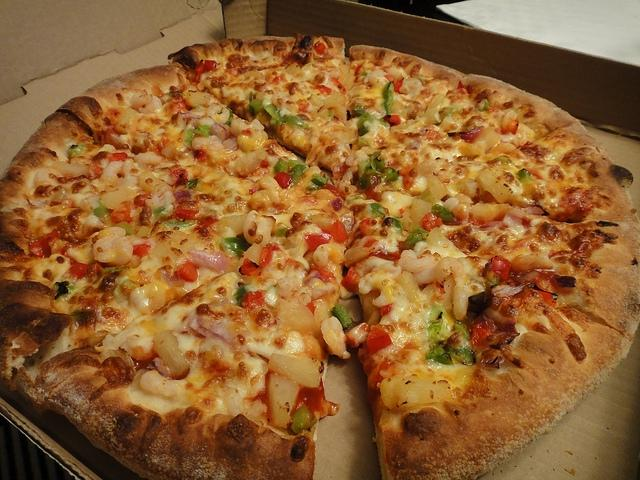pineapple: (378, 373, 457, 411), (267, 353, 325, 388), (152, 330, 190, 380), (268, 373, 300, 430), (275, 298, 317, 340), (476, 167, 522, 203), (321, 316, 351, 360), (424, 225, 461, 252), (235, 148, 268, 176), (137, 170, 172, 196), (102, 187, 138, 210), (396, 270, 420, 302), (410, 198, 432, 231), (472, 126, 502, 150), (218, 214, 248, 237), (425, 93, 445, 124), (427, 174, 450, 200), (455, 179, 484, 198), (192, 136, 224, 151), (307, 213, 334, 230), (244, 242, 263, 266), (138, 95, 162, 114), (185, 92, 211, 108), (52, 162, 84, 174), (415, 160, 438, 176), (284, 62, 304, 78), (470, 203, 491, 218), (330, 104, 348, 120), (240, 69, 266, 80), (250, 127, 268, 139), (333, 92, 346, 105), (338, 64, 351, 76), (338, 72, 348, 85)
